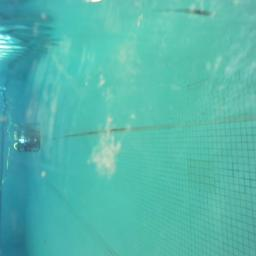front: (17, 138, 40, 152)
